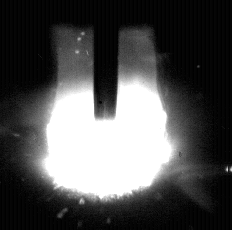arame: (95, 0, 117, 121)
poca: (48, 0, 172, 230)
